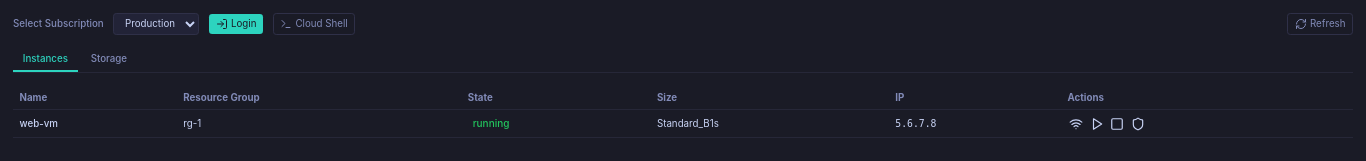
AzurePanel › switches to the storage tab using the real cloud_azure_list_storage command name
Check: the text "web-vm" is shown, box x1=13 y1=110 x2=177 y2=138
What coordinates should you click on to do the following:
click the button "Storage"
I would click on:
 (109, 60)
Its box is x1=81 y1=48 x2=137 y2=72.
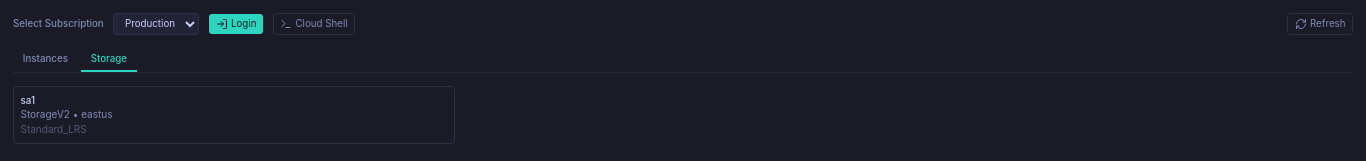
Check: the text "sa1" is shown, box x1=20 y1=95 x2=35 y2=106
